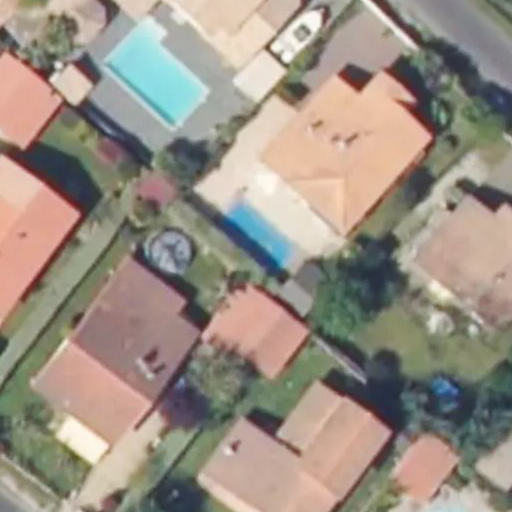pool: (218, 232, 292, 252)
